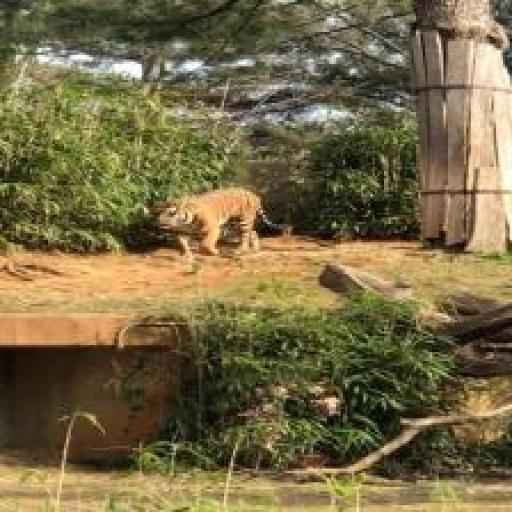Tiger: (108, 158, 345, 344)
